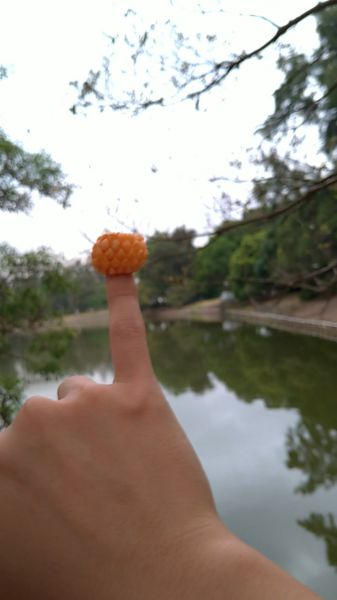eggs: (92, 232, 149, 276)
